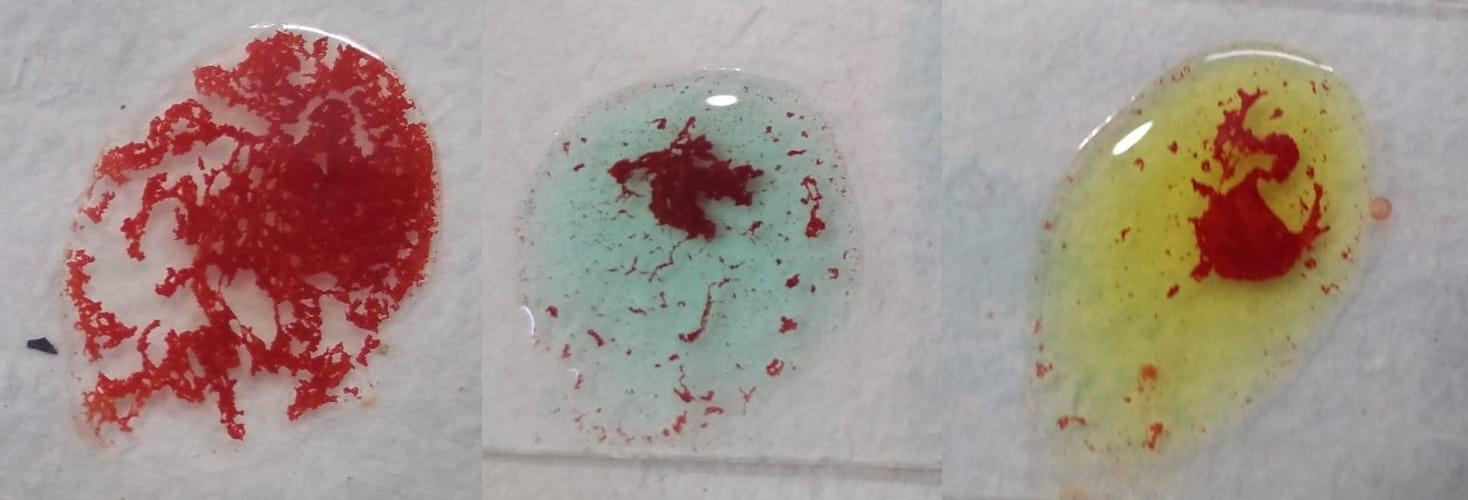A: (514, 63, 853, 447)
B: (1031, 44, 1374, 471)
D: (67, 19, 431, 461)
